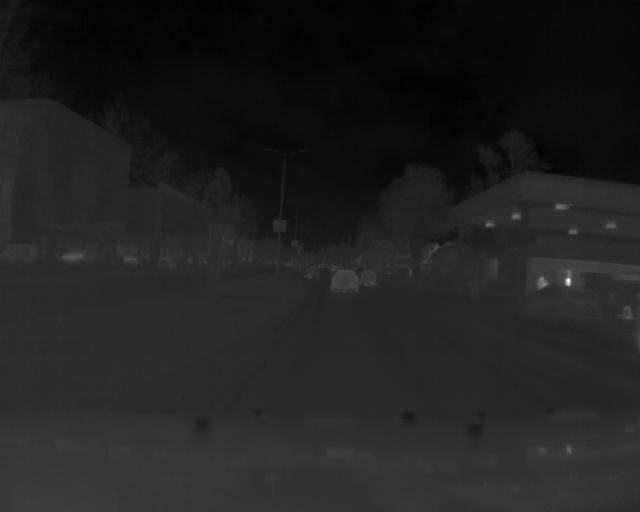car: (524, 283, 604, 337), (329, 269, 360, 294), (361, 269, 378, 290)
